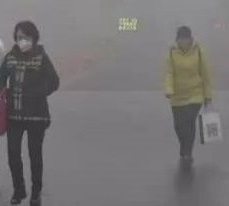person: (1, 19, 59, 205), (162, 26, 213, 168)
